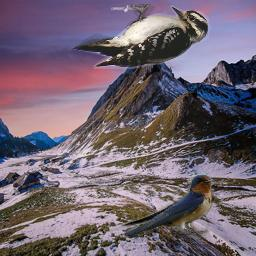Swallow: (105, 173, 217, 238)
Woodpecker: (71, 4, 217, 73)
